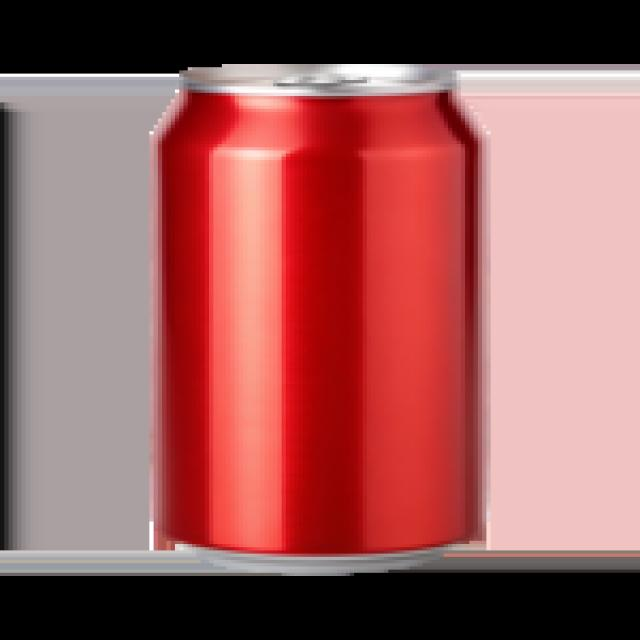soda_can: (161, 63, 518, 600)
